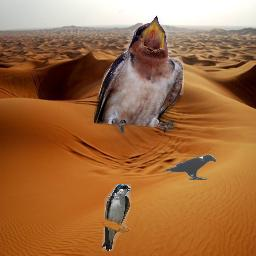Crow: (164, 154, 216, 180)
Swallow: (94, 15, 184, 134), (102, 184, 131, 251)
